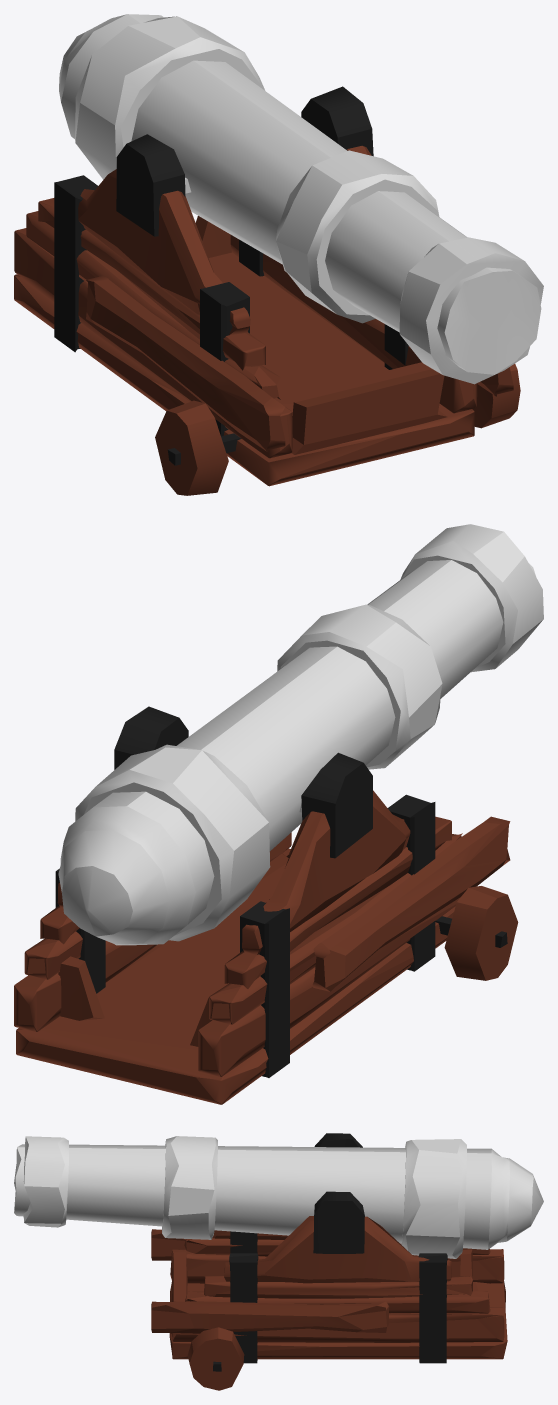
Rendered from Low_Env_Cannon.fbx.
3 views of the same model, one above another, from view 1: azimuth 30°, elevation 25°; view 2: azimuth 150°, elevation 25°; view 3: azimuth 270°, elevation 25° (orthographic). The views are drawn at different scales.
Visible parts, largest first — view 1: Low_Cannon_Base, Low_Cannon_Barrel; view 2: Low_Cannon_Base, Low_Cannon_Barrel; view 3: Low_Cannon_Base, Low_Cannon_Barrel.
Boxes of the visible parts, box(x1,y1,x2,y2) form: Low_Cannon_Base: box(14, 86, 520, 495); Low_Cannon_Barrel: box(59, 14, 543, 384); Low_Cannon_Base: box(14, 706, 518, 1104); Low_Cannon_Barrel: box(58, 524, 543, 945); Low_Cannon_Base: box(151, 1133, 507, 1390); Low_Cannon_Barrel: box(14, 1136, 543, 1258).
Size of the model in its own units: 3.83 by 3.36 by 8.04.
